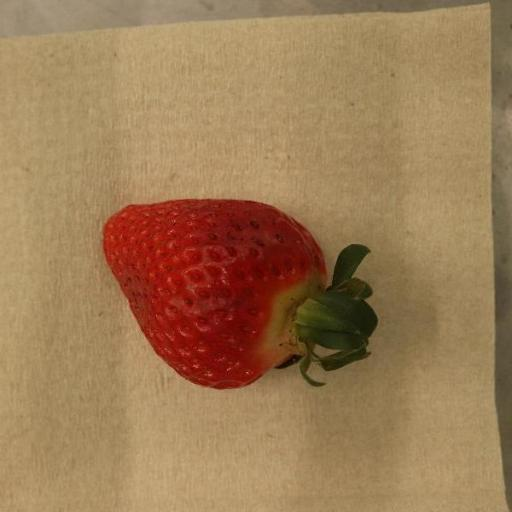Strawberry: (104, 199, 380, 391)
